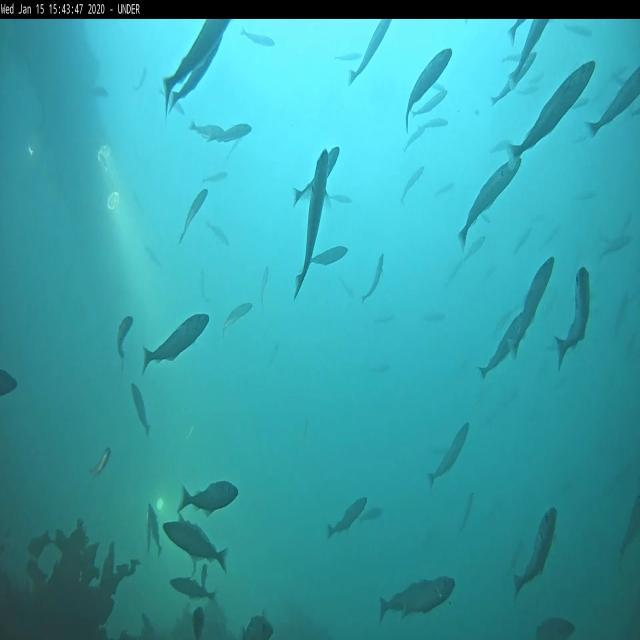fish: (511, 62, 597, 166), (164, 19, 232, 122), (458, 156, 517, 247), (172, 34, 224, 110), (553, 266, 590, 372), (513, 508, 559, 590), (141, 315, 206, 373), (587, 67, 640, 136), (380, 573, 454, 620), (478, 311, 526, 381), (405, 49, 451, 122), (164, 520, 227, 572), (426, 421, 468, 487), (349, 20, 392, 84), (509, 19, 550, 86), (294, 147, 338, 205), (491, 54, 536, 106), (182, 482, 241, 517), (327, 497, 368, 538), (180, 188, 208, 242), (362, 253, 385, 302), (620, 498, 639, 556), (131, 383, 151, 431), (412, 90, 446, 118), (169, 578, 216, 598), (308, 246, 348, 268), (208, 124, 252, 144), (118, 316, 134, 369), (536, 618, 576, 637), (402, 164, 423, 199), (148, 506, 162, 558), (240, 27, 276, 47), (242, 616, 272, 639), (228, 303, 253, 330), (90, 447, 110, 479), (460, 492, 474, 536), (602, 237, 632, 256), (189, 122, 224, 138), (468, 232, 486, 260), (210, 223, 232, 244), (404, 127, 424, 150), (260, 265, 270, 311), (0, 370, 18, 394), (565, 26, 595, 40), (144, 511, 153, 556), (509, 20, 524, 46), (202, 170, 229, 184), (359, 506, 383, 521), (502, 52, 526, 64), (326, 193, 352, 203), (422, 119, 448, 128), (134, 70, 146, 89), (430, 82, 446, 94), (334, 54, 362, 59)
